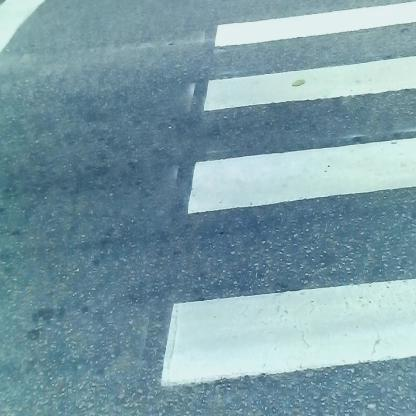crosswalk: (185, 17, 416, 414)
